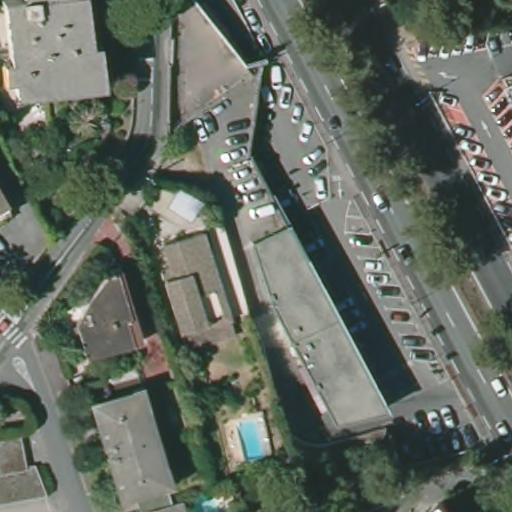pool: (234, 411, 271, 464)
